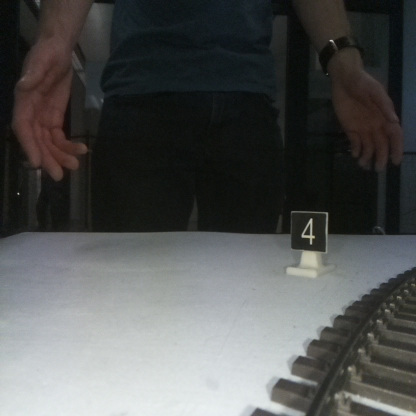black-stop-4: (291, 211, 326, 274)
